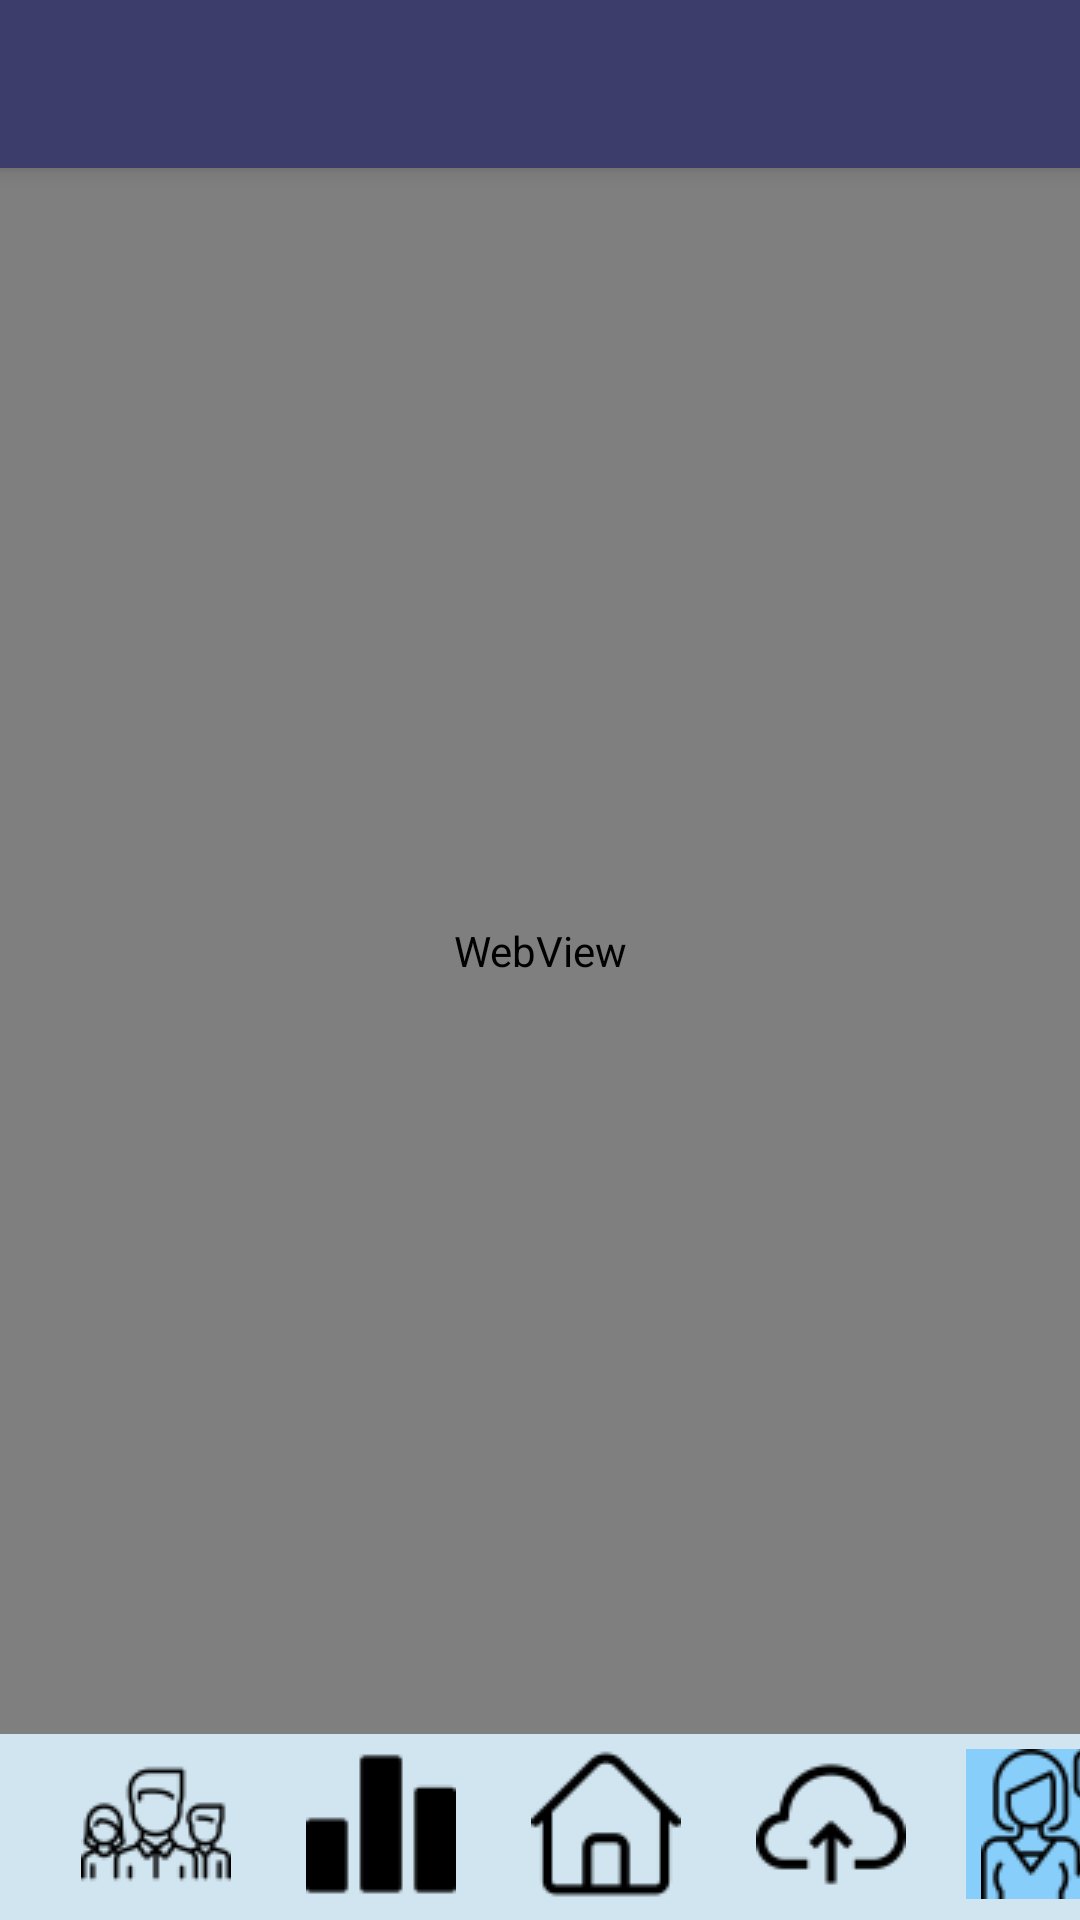

Icon bounding boxes for this 1080×1920 phone screenshot, format (x1, y1, x2, y2):
housez: (531, 1751, 681, 1897)
statisticalz: (306, 1754, 456, 1894)
teamz: (81, 1766, 231, 1881)
uploadz: (756, 1763, 906, 1885)
